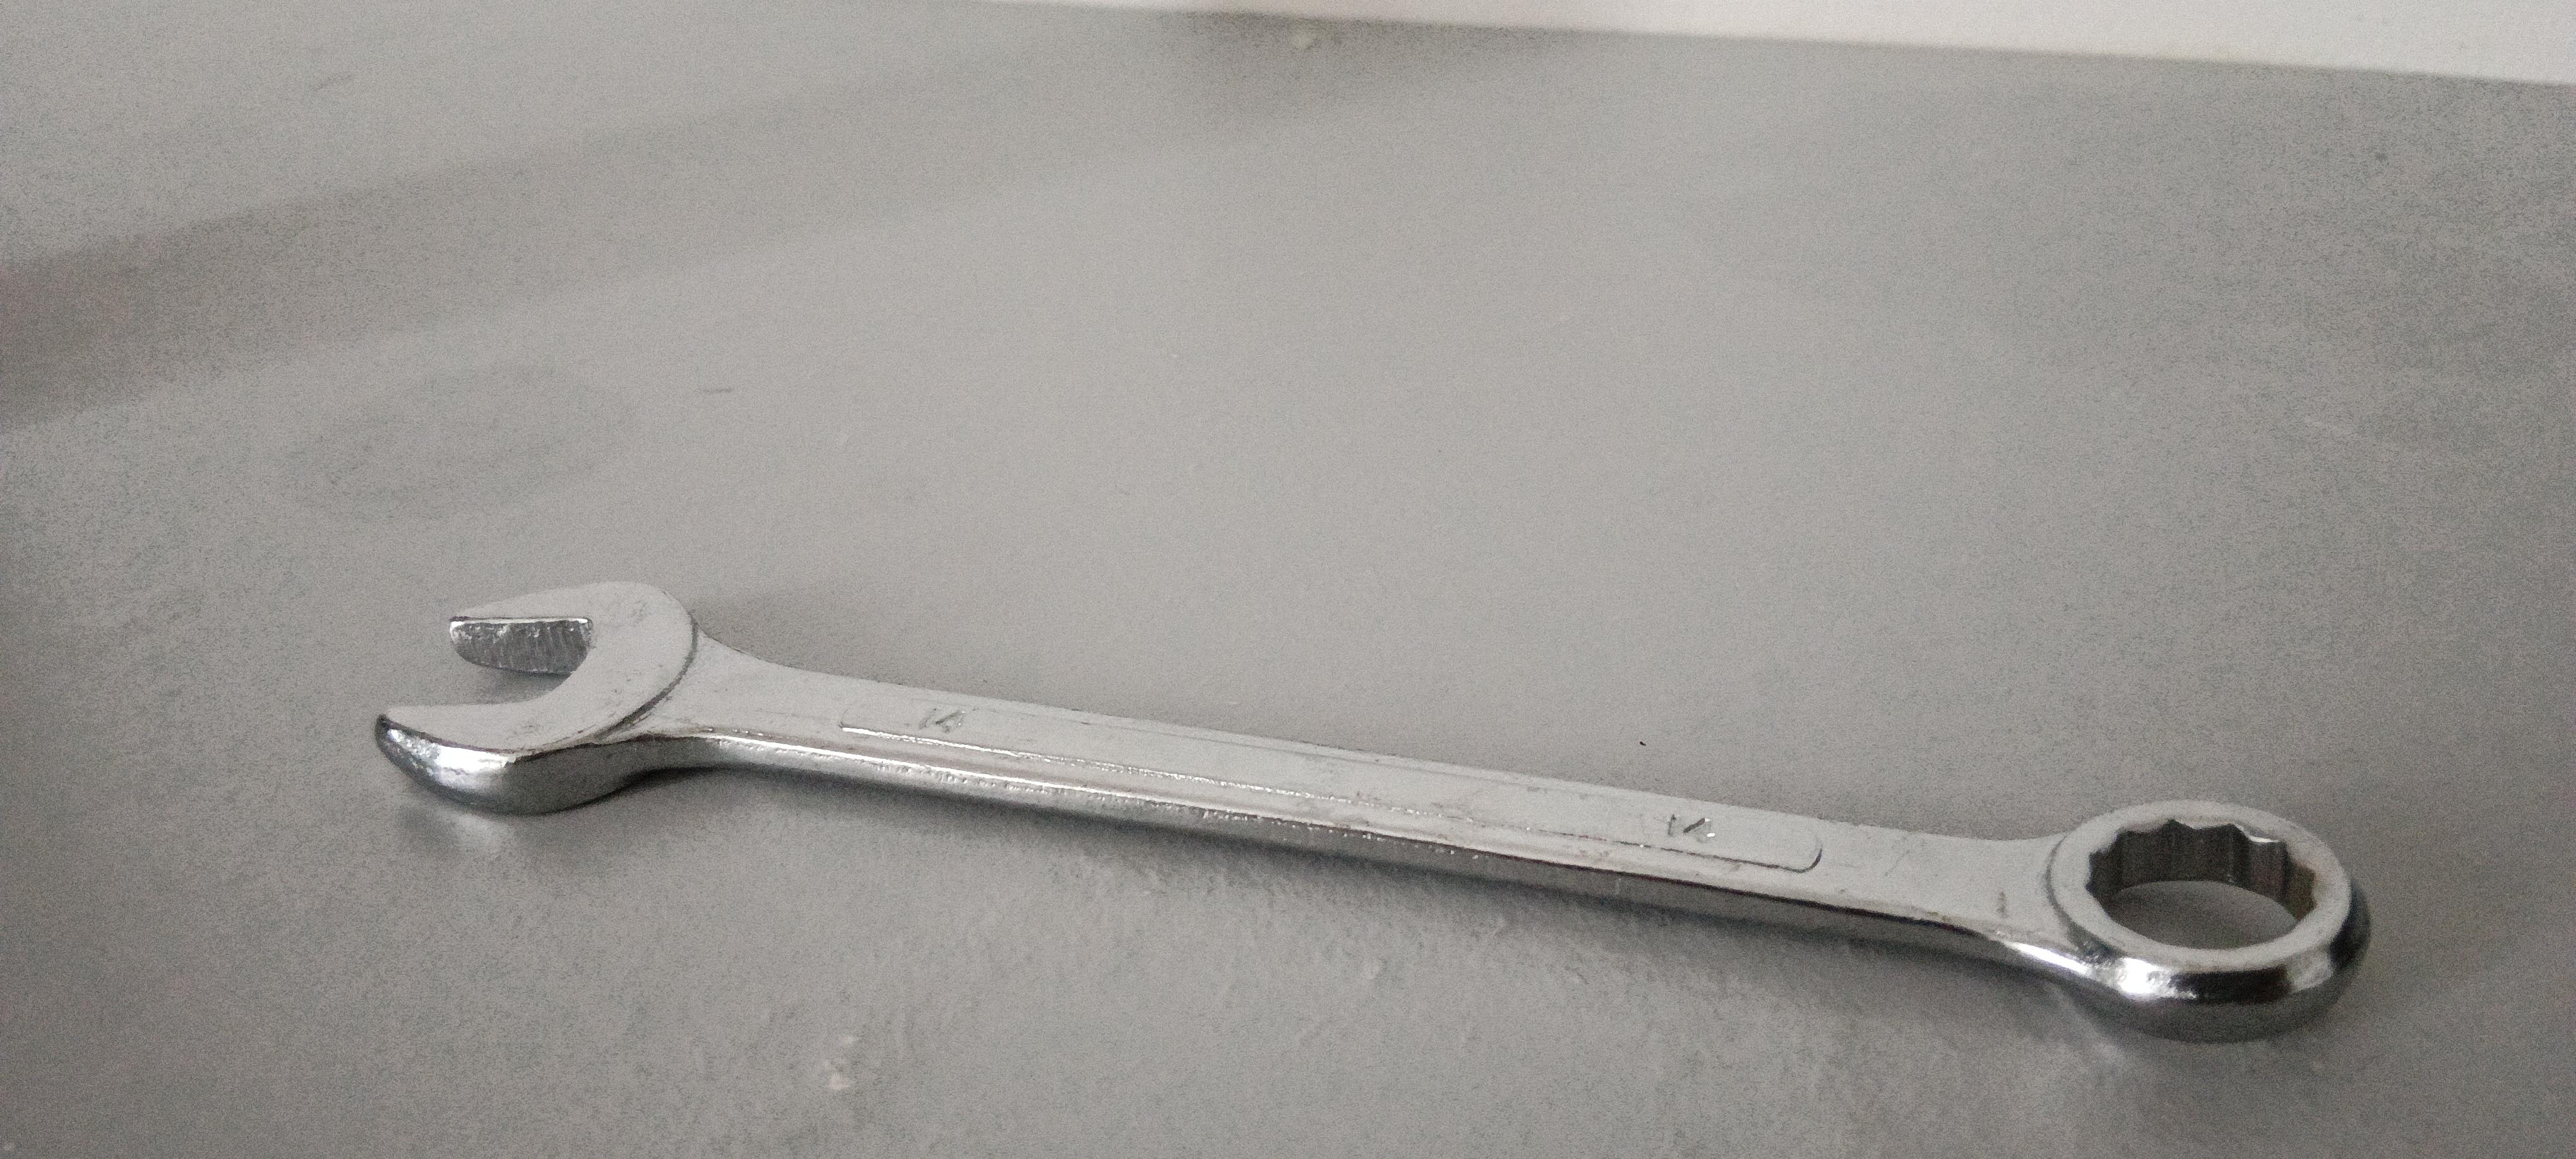Spanners: (350, 543, 2418, 1074)
